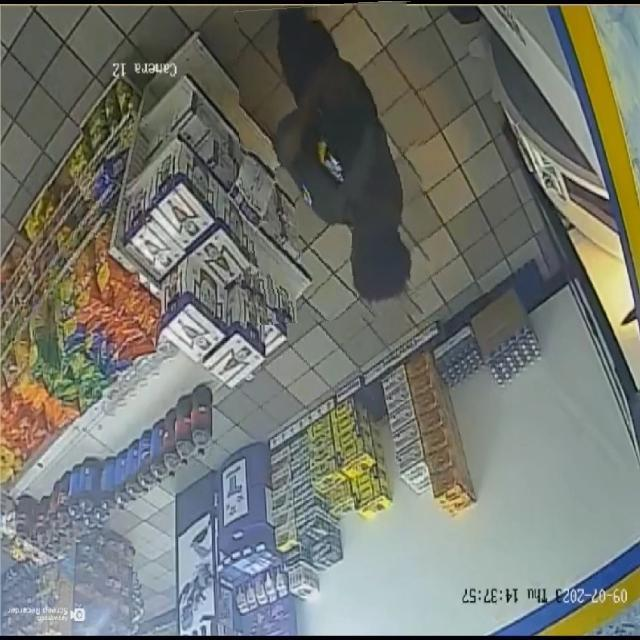Normal: (239, 2, 427, 323)
